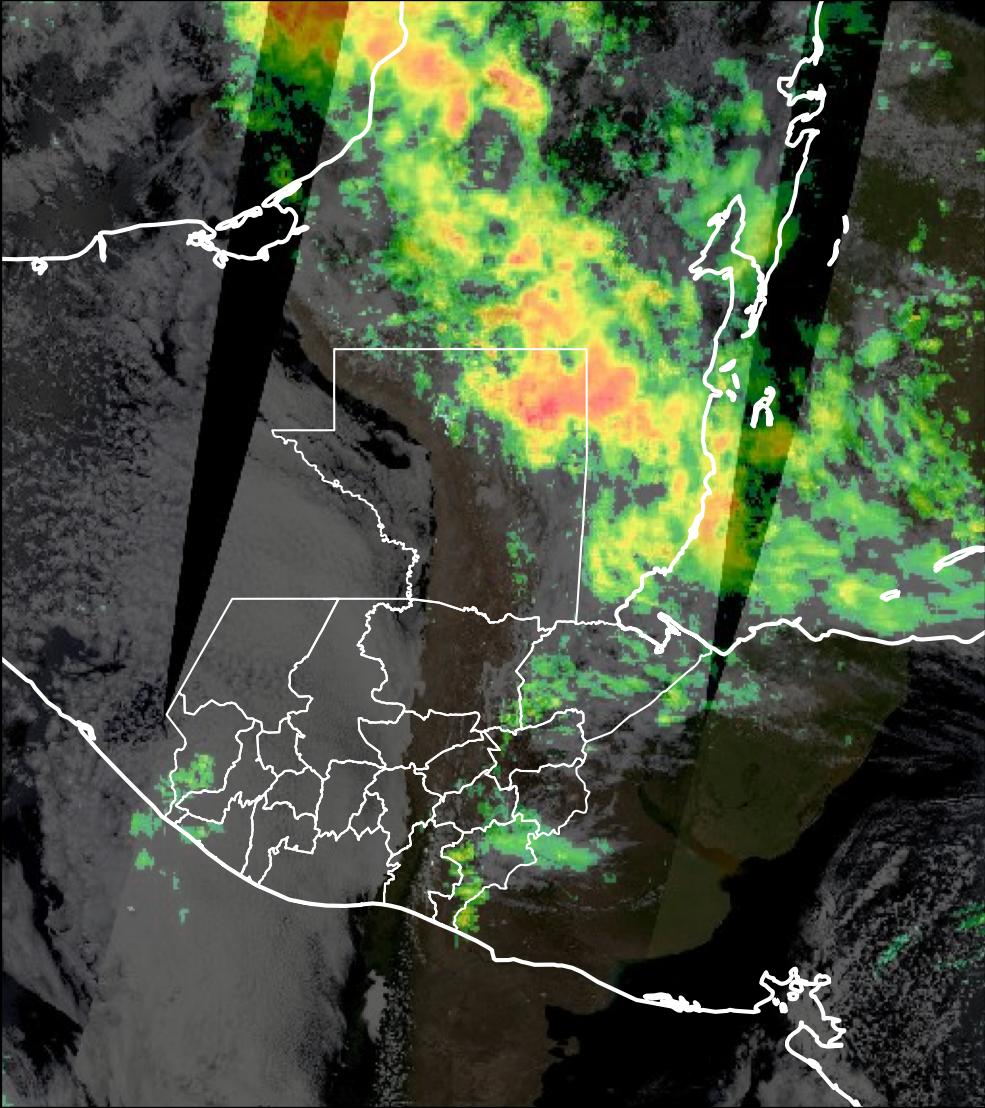precipitacion: (509, 350, 672, 461), (245, 1, 364, 83)
